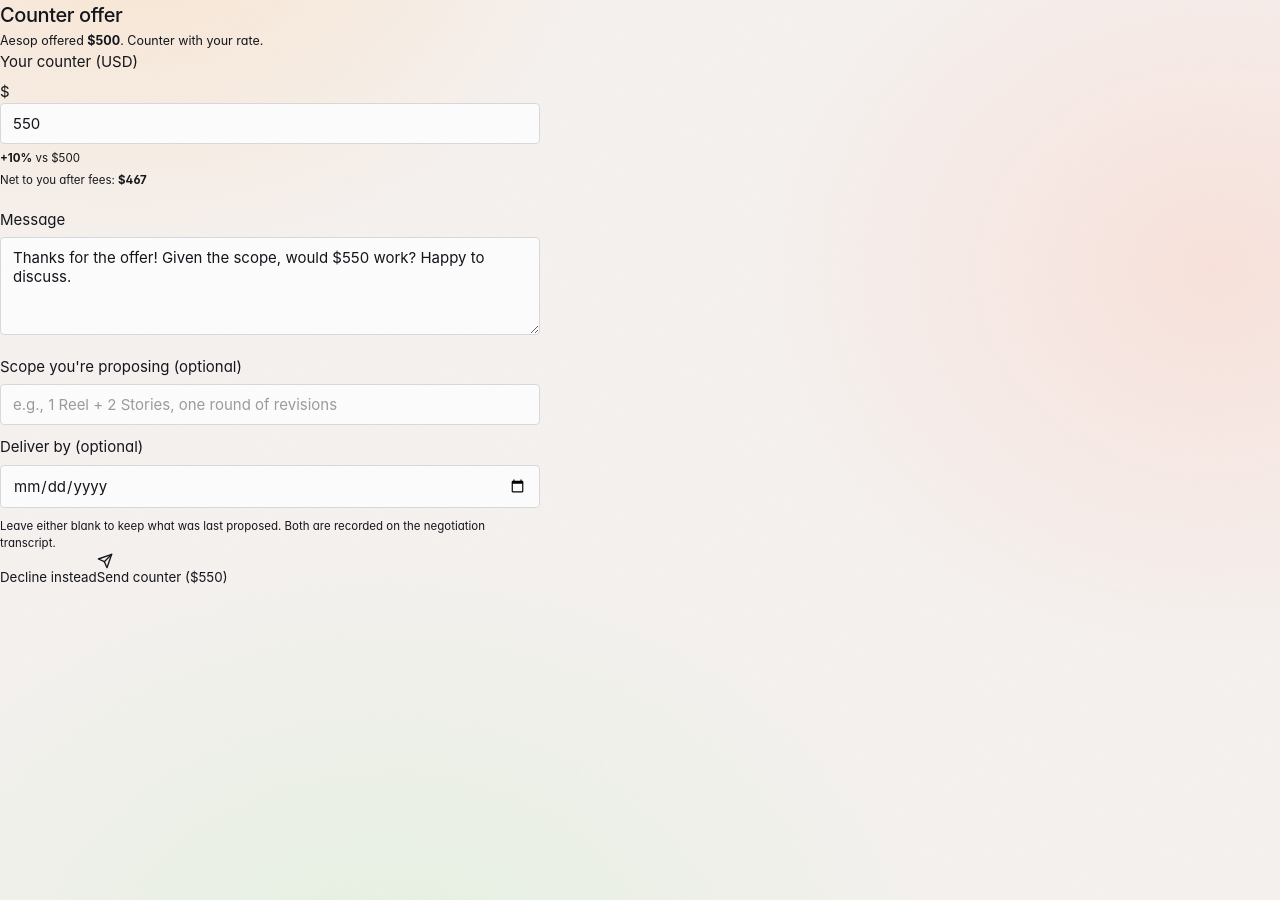
Test: CounterOfferModal › disables Send when rate exceeds 10× current (sanity bound)
This screenshot has width=1280, height=900.
Type an extreme counter — 6000 is 12× the original $500.
Step 1. Replace the text in the number field with "6000" → (270, 123), box [0,103,540,144]
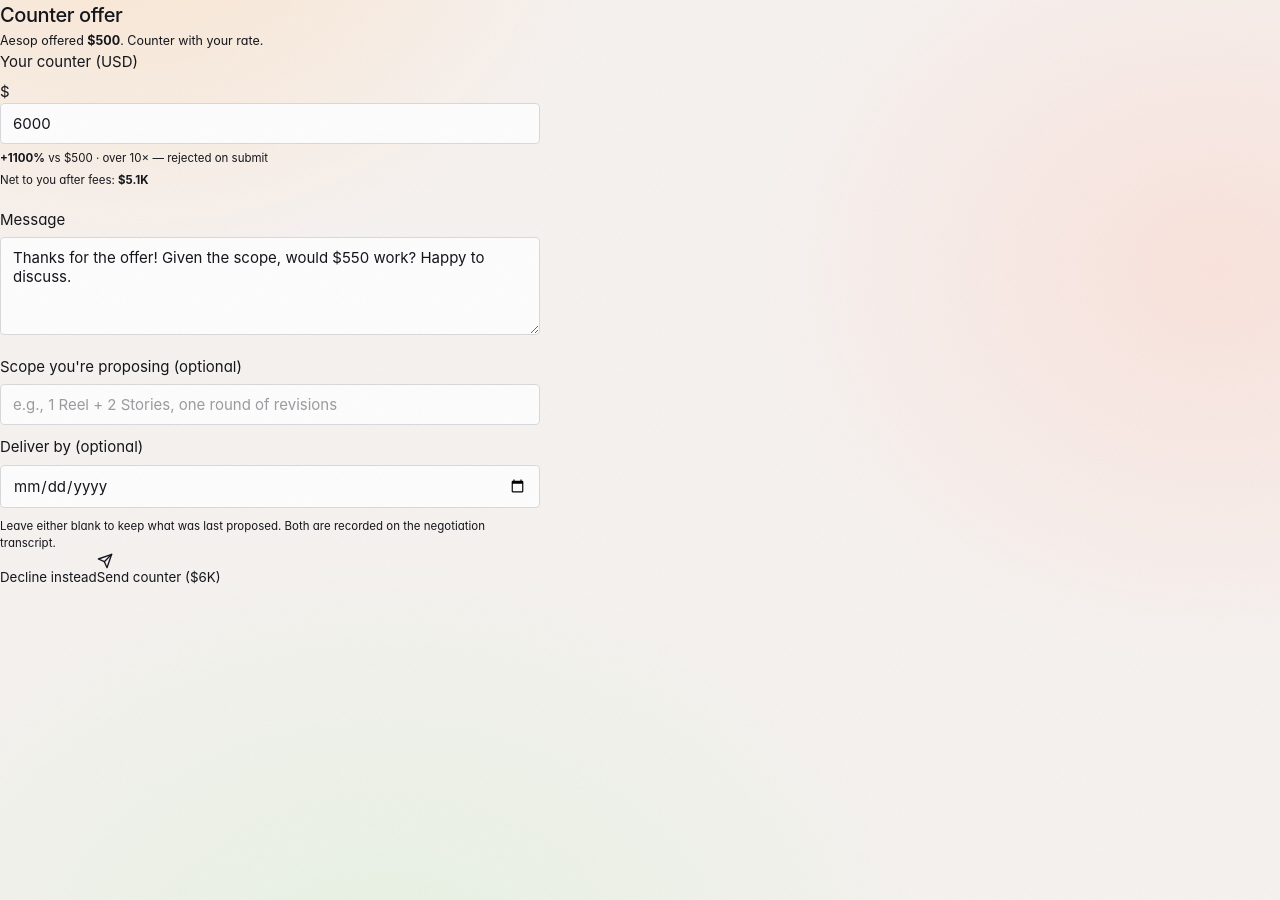
Expected: the text "+1100% vs $500 · over 10× — rejected on submit" is shown, [0,151,268,165]
Expected: the button "Send counter ($6K)" is disabled, [97,553,221,585]
